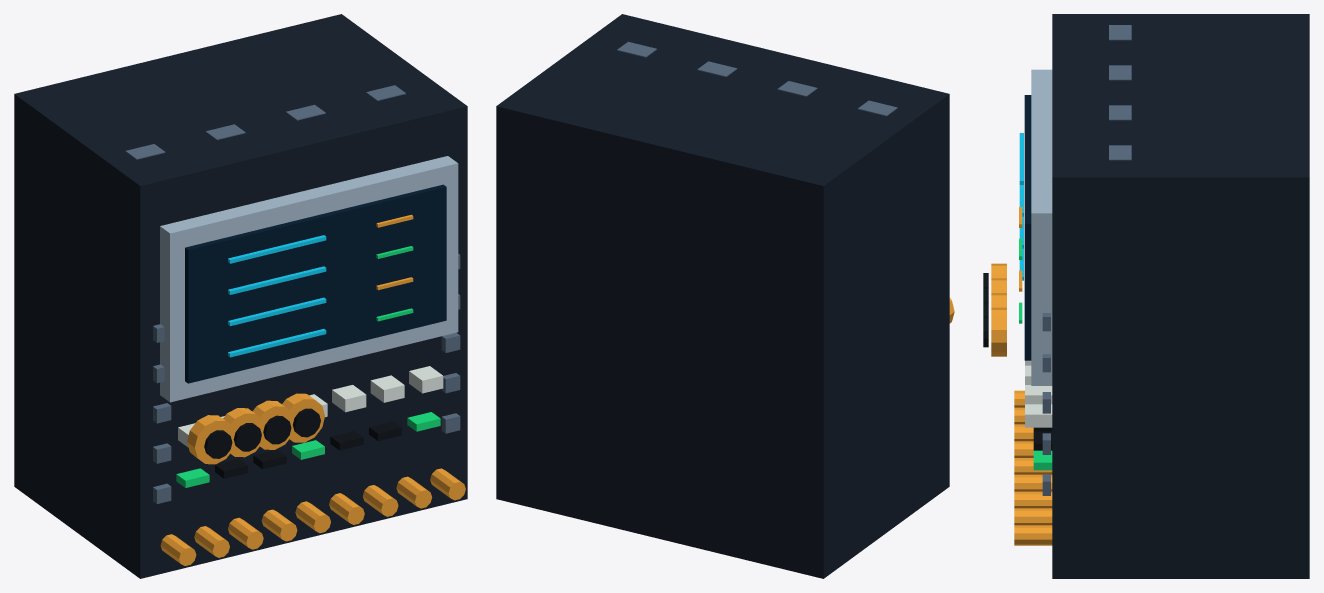
The model's file is 23_L88_AdsorptionCapacityMonitor.fbx.
3 renders of one model, left to right at view 1: azimuth 30°, elevation 25°; view 2: azimuth 150°, elevation 25°; view 3: azimuth 270°, elevation 25°, orthographic. The views are drawn at different scales.
Parts seen in each view (by area): view 1: L87_AdsorptionCapacityMonitor_Part_0000, L87_AdsorptionCapacityMonitor_Part_0002, L87_AdsorptionCapacityMonitor_Part_0001, L87_AdsorptionCapacityMonitor_Part_0004, L87_AdsorptionCapacityMonitor_Part_0008, L87_AdsorptionCapacityMonitor_Part_0006, L87_AdsorptionCapacityMonitor_Part_0003, L87_AdsorptionCapacityMonitor_Part_0007, L87_AdsorptionCapacityMonitor_Part_0005, L87_AdsorptionCapacityMonitor_Part_0009, L87_AdsorptionCapacityMonitor_Part_0011, L87_AdsorptionCapacityMonitor_Part_0015 (+5 smaller); view 2: L87_AdsorptionCapacityMonitor_Part_0000, L87_AdsorptionCapacityMonitor_Part_0008; view 3: L87_AdsorptionCapacityMonitor_Part_0000, L87_AdsorptionCapacityMonitor_Part_0001, L87_AdsorptionCapacityMonitor_Part_0004, L87_AdsorptionCapacityMonitor_Part_0008, L87_AdsorptionCapacityMonitor_Part_0002, L87_AdsorptionCapacityMonitor_Part_0006, L87_AdsorptionCapacityMonitor_Part_0015, L87_AdsorptionCapacityMonitor_Part_0003, L87_AdsorptionCapacityMonitor_Part_0005.
Part boxes in pixels (x1=…): L87_AdsorptionCapacityMonitor_Part_0000: x1=14, y1=14, x2=467, y2=578; L87_AdsorptionCapacityMonitor_Part_0002: x1=185, y1=184, x2=446, y2=383; L87_AdsorptionCapacityMonitor_Part_0001: x1=160, y1=156, x2=458, y2=402; L87_AdsorptionCapacityMonitor_Part_0004: x1=160, y1=214, x2=465, y2=565; L87_AdsorptionCapacityMonitor_Part_0008: x1=125, y1=85, x2=460, y2=503; L87_AdsorptionCapacityMonitor_Part_0006: x1=178, y1=366, x2=443, y2=447; L87_AdsorptionCapacityMonitor_Part_0003: x1=228, y1=235, x2=326, y2=357; L87_AdsorptionCapacityMonitor_Part_0007: x1=215, y1=421, x2=401, y2=478; L87_AdsorptionCapacityMonitor_Part_0005: x1=176, y1=246, x2=440, y2=487; L87_AdsorptionCapacityMonitor_Part_0009: x1=187, y1=415, x2=235, y2=464; L87_AdsorptionCapacityMonitor_Part_0011: x1=223, y1=408, x2=264, y2=457; L87_AdsorptionCapacityMonitor_Part_0015: x1=282, y1=393, x2=324, y2=442; L87_AdsorptionCapacityMonitor_Part_0000: x1=496, y1=14, x2=949, y2=578; L87_AdsorptionCapacityMonitor_Part_0008: x1=617, y1=41, x2=897, y2=116; L87_AdsorptionCapacityMonitor_Part_0000: x1=1052, y1=14, x2=1309, y2=578; L87_AdsorptionCapacityMonitor_Part_0001: x1=1031, y1=69, x2=1052, y2=385; L87_AdsorptionCapacityMonitor_Part_0004: x1=1014, y1=207, x2=1052, y2=545; L87_AdsorptionCapacityMonitor_Part_0008: x1=1042, y1=25, x2=1131, y2=495; L87_AdsorptionCapacityMonitor_Part_0002: x1=1024, y1=95, x2=1031, y2=360; L87_AdsorptionCapacityMonitor_Part_0006: x1=1025, y1=360, x2=1052, y2=427; L87_AdsorptionCapacityMonitor_Part_0015: x1=991, y1=307, x2=1006, y2=356; L87_AdsorptionCapacityMonitor_Part_0003: x1=1019, y1=133, x2=1023, y2=280; L87_AdsorptionCapacityMonitor_Part_0005: x1=1019, y1=238, x2=1052, y2=470.
Size of the model in its own units: 102 by 117 by 86.2.
